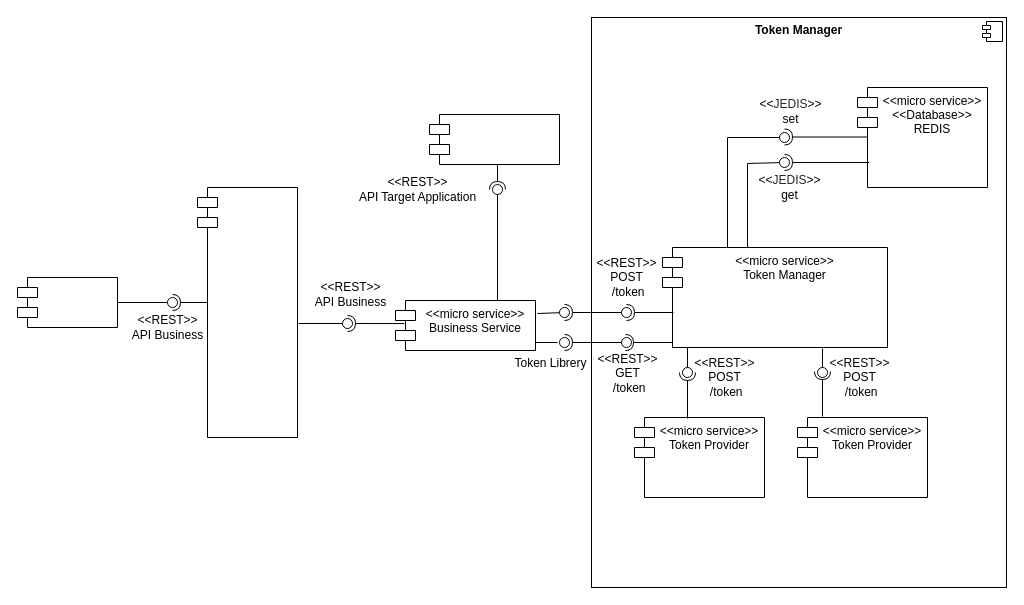
The diagram is 1024 pixels wide and 605 high, and some of its shapes have lost their labels. The box of each missing label's shape, as (x1, y1, x2, y2) in pixels:
API Gateway: (196, 186, 298, 438)
Client: (16, 276, 118, 328)
Target Application: (428, 114, 560, 164)
